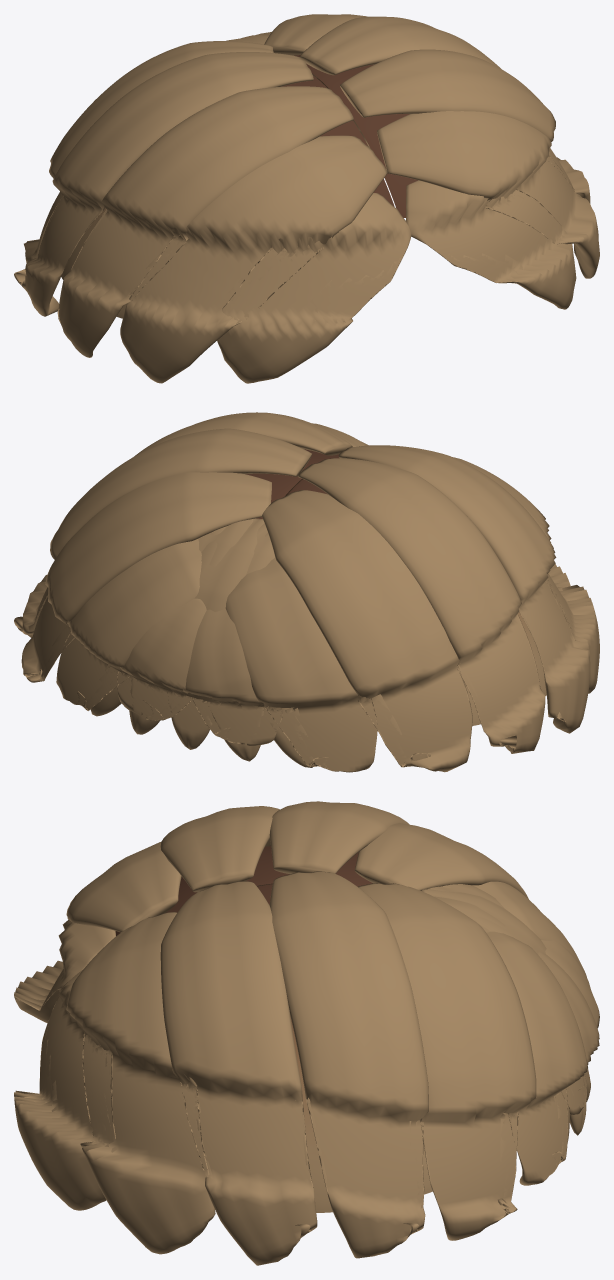
The model's file is Masculine-middle-part-headband260-hair-ombre.glb.
3 renders of one model, top to bottom at view 1: azimuth 30°, elevation 25°; view 2: azimuth 150°, elevation 25°; view 3: azimuth 270°, elevation 25°, orthographic. The views are drawn at different scales.
Parts seen in each view (by area): view 1: 226 hair / Hair260 / layered middle-part; view 2: 226 hair / Hair260 / layered middle-part; view 3: 226 hair / Hair260 / layered middle-part.
Part boxes in pixels (x1,y1,x2,y2): 226 hair / Hair260 / layered middle-part: (14, 14, 599, 383); 226 hair / Hair260 / layered middle-part: (14, 412, 599, 772); 226 hair / Hair260 / layered middle-part: (14, 801, 599, 1265).
Bounding box in the file's own units: 1.03 × 0.4519 × 0.8714.
